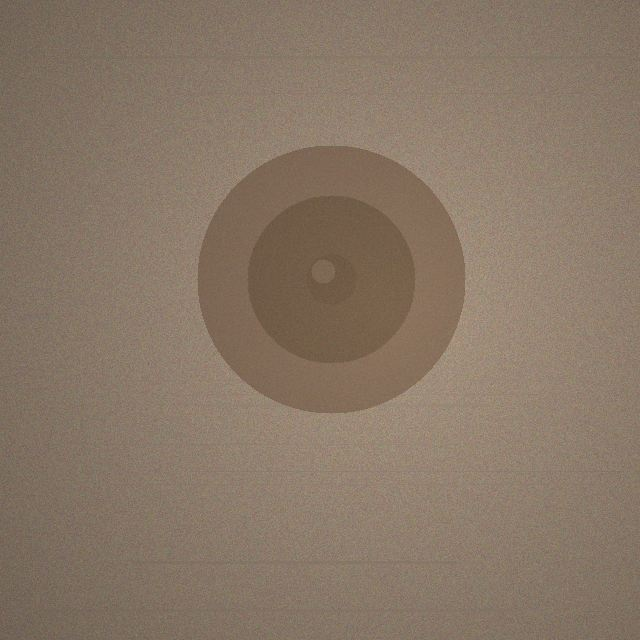good: (197, 145, 465, 413)
